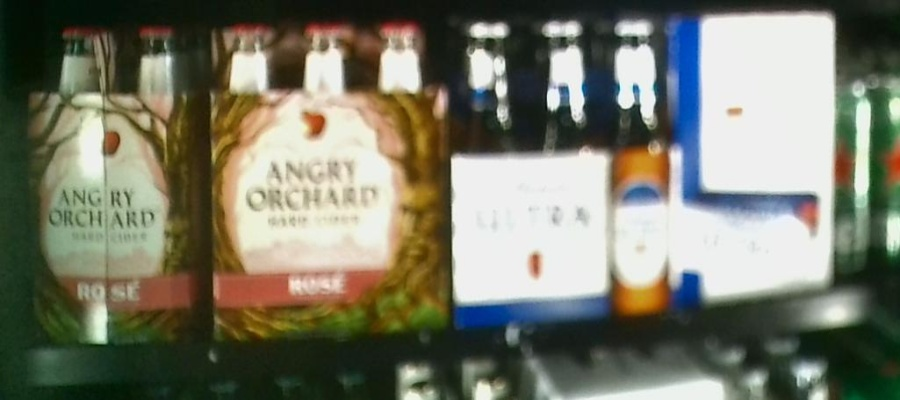bottle: (203, 22, 454, 341), (454, 19, 672, 315), (24, 23, 202, 344), (671, 14, 835, 309)
